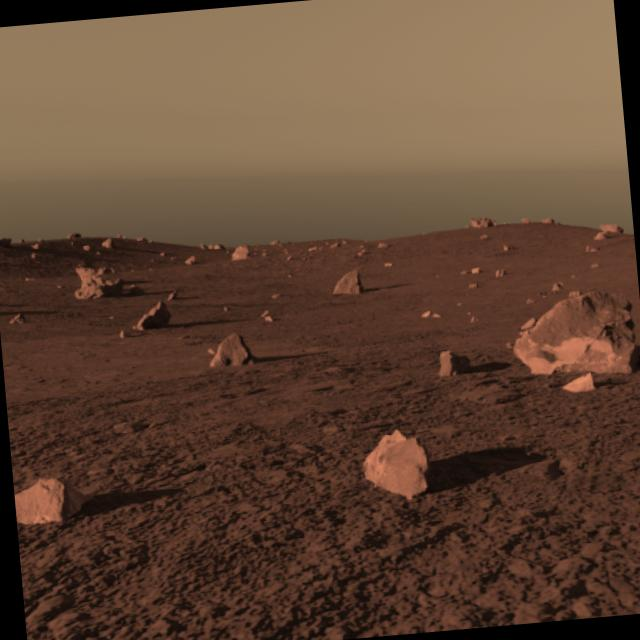rock: (503, 281, 640, 396), (358, 420, 433, 502), (12, 467, 76, 532)
